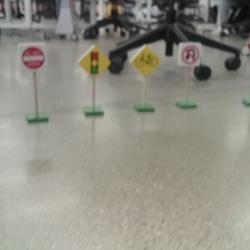bicycle: (130, 45, 162, 76)
do_not_enter: (18, 43, 48, 72)
no_u_turn: (178, 43, 201, 67)
traffic_signal: (78, 45, 111, 78)
